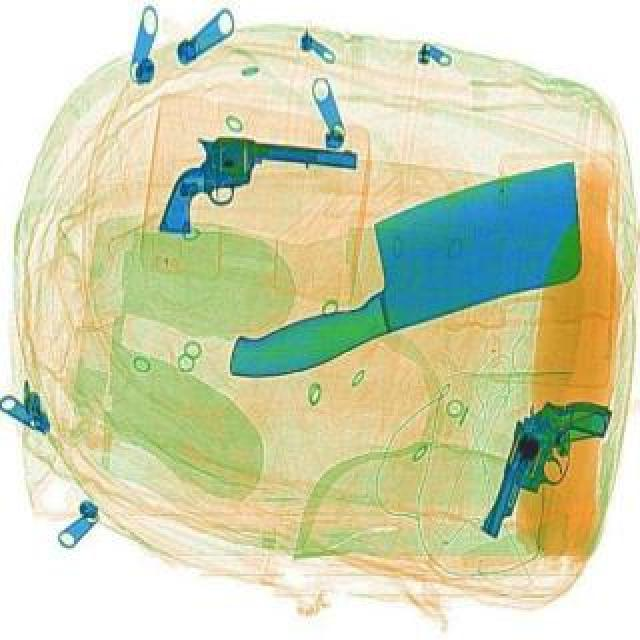gun: (452, 374, 622, 552), (162, 130, 360, 242)
knife: (194, 148, 618, 384)
